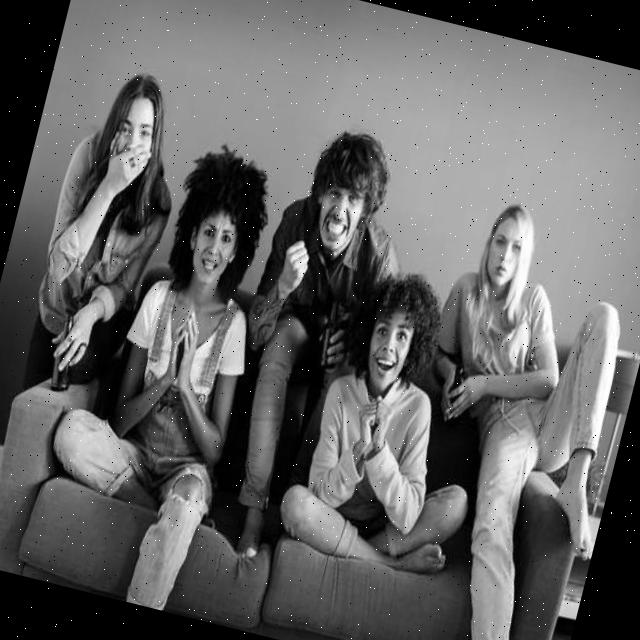Surprised: (358, 301, 417, 397)
